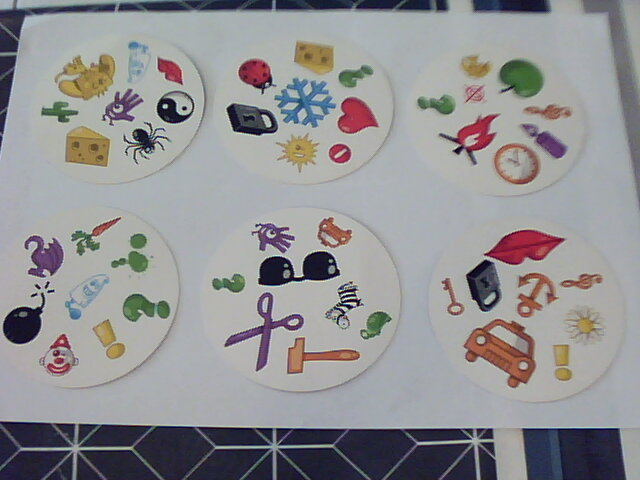ancre: (517, 272, 560, 320)
araignee: (123, 123, 175, 165)
bombe: (1, 278, 56, 345)
bouche: (484, 230, 567, 263), (154, 54, 191, 85)
bougie: (517, 122, 570, 160)
cactus: (40, 99, 87, 125)
cadenas: (469, 259, 504, 312), (225, 103, 278, 134)
carotte: (72, 212, 120, 251)
chien: (58, 51, 119, 94)
cible: (462, 84, 487, 106)
ciseau: (223, 290, 303, 372)
cle: (443, 275, 466, 315)
clown: (41, 333, 78, 375)
coccinelle: (236, 56, 275, 93)
coeur: (338, 91, 380, 138)
dooble: (251, 219, 300, 252), (100, 91, 146, 119)
dragon: (23, 232, 66, 277)
fantome: (67, 274, 111, 314), (126, 36, 149, 82)
feu: (438, 113, 499, 165)
fleur: (564, 303, 606, 343)
flocon: (278, 78, 338, 125)
fromage: (61, 127, 113, 170), (293, 36, 334, 74)
horloge: (493, 145, 540, 187)
lunette: (256, 252, 341, 284)
marteau: (290, 338, 358, 376)
note: (520, 103, 575, 122), (562, 272, 603, 292)
point_exclamation: (88, 319, 128, 361), (549, 341, 575, 397)
point_interrogation: (125, 294, 171, 325), (414, 92, 459, 119), (338, 64, 375, 90), (211, 275, 244, 290)
pomme: (498, 56, 542, 98)
sens_interdit: (327, 140, 353, 165)
soleil: (274, 133, 320, 175)
tache: (112, 232, 157, 272)
tortue: (360, 307, 393, 341)
voiture: (463, 319, 538, 389), (315, 216, 358, 251)
ying_yang: (156, 88, 194, 126)
zebre: (322, 280, 367, 330)
